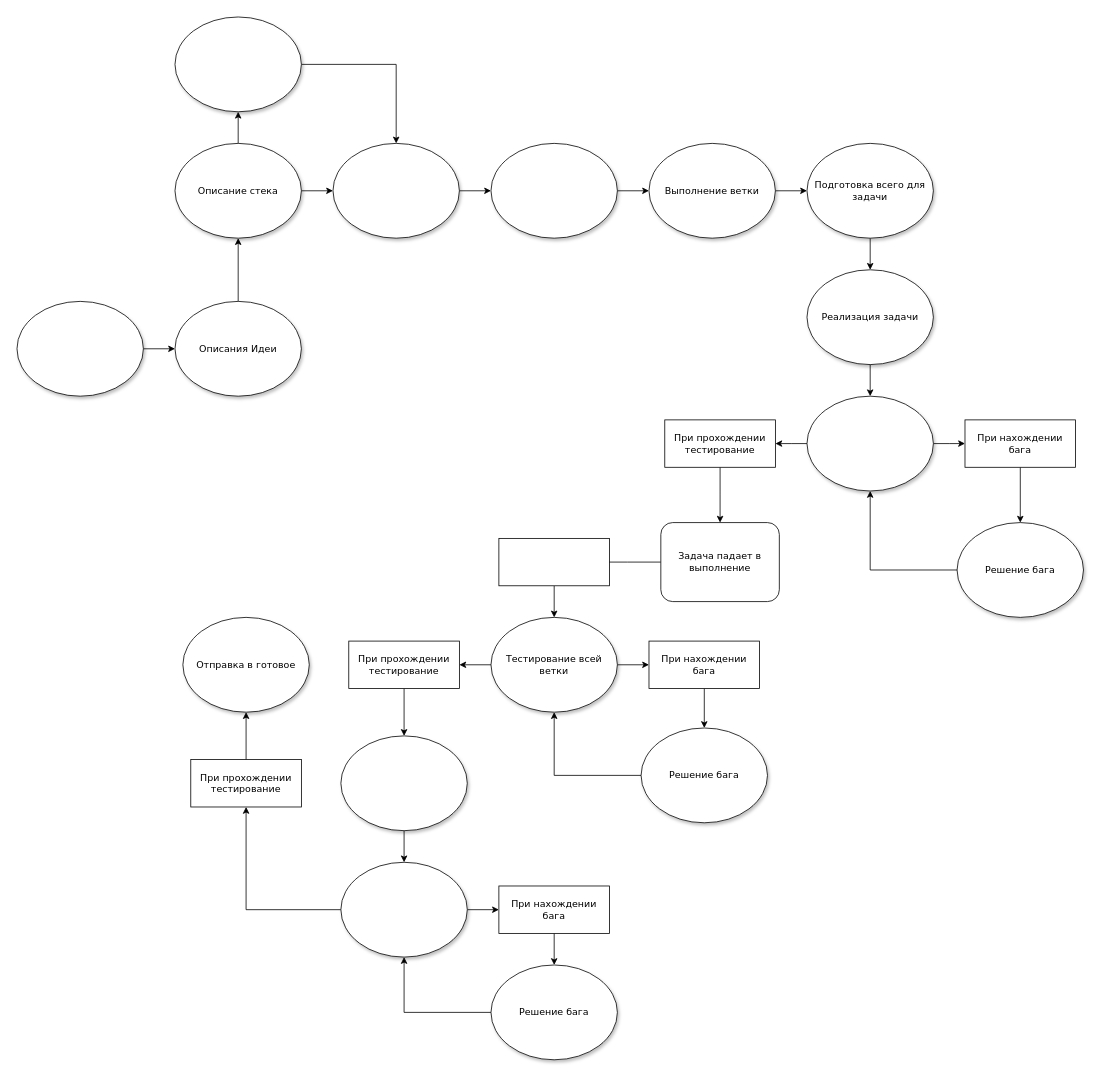
Image size: 1102x1079. Some labels were removed from this diagram. Here are the shapes that lost their labels. From the top down, the centre of each, then its label:
point 238,65: Написание архитектуры и связей
point 396,191: Разбиение на ветки разработки
point 554,191: Определение задач в ветке
point 80,349: Введение ранее не запланированного
point 870,444: Тестирование задачи
point 553,562: При выполнении ветки
point 404,784: Сливание ветки
point 404,910: Тестирование всего проекта
